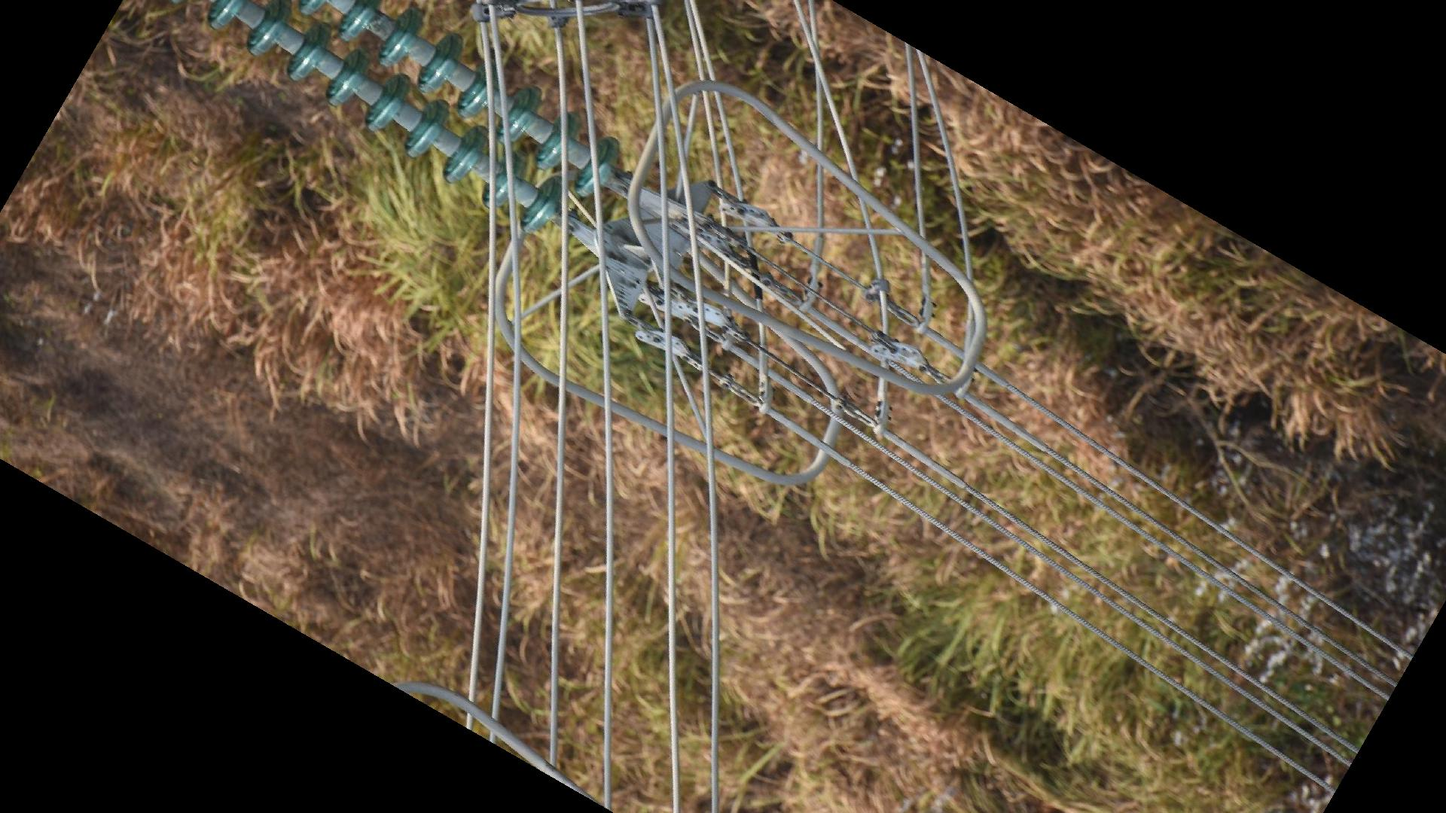insulator: (197, 1, 627, 240)
